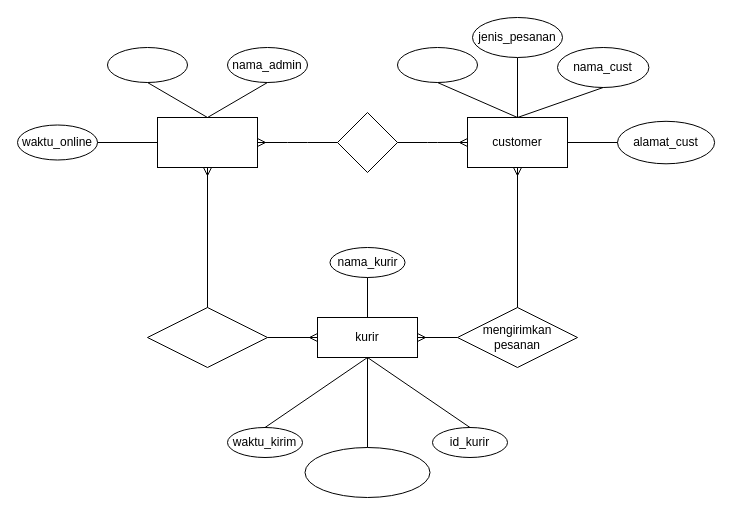
Some shapes in this 733 by 515 pixel diagram are drawn without their labels. Here are the shapes that lost their labels. From the top down, the box of each, then its label:
(106, 46, 188, 82): id_admin
(396, 46, 478, 82): id_cust
(156, 116, 258, 168): Administrator
(336, 112, 398, 172): daftar
(146, 306, 268, 368): memberikan data
(304, 446, 430, 498): daerah_pengiriman
